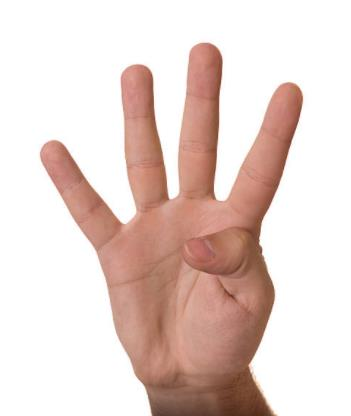right: (32, 38, 307, 391)
